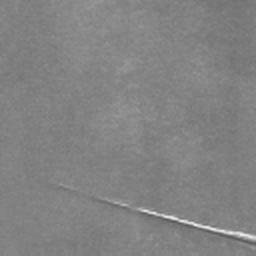Finishing roll printing: (134, 206, 256, 242), (96, 192, 129, 207), (49, 180, 79, 192)
